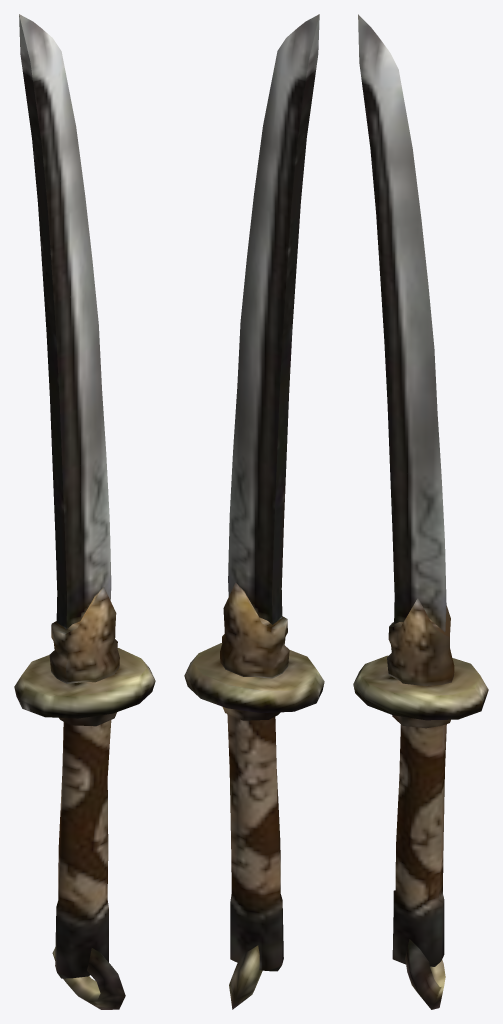
The model's file is weapon-coiled-dawn.glb.
3 views of the same model, side by side, from view 1: azimuth 30°, elevation 25°; view 2: azimuth 150°, elevation 25°; view 3: azimuth 330°, elevation 25° (orthographic). The views are drawn at different scales.
Parts seen in each view (by area): view 1: katanaH_MDL_q; view 2: katanaH_MDL_q; view 3: katanaH_MDL_q.
Part boxes in pixels (x1,y1,x2,y2): katanaH_MDL_q: [14, 14, 155, 1009]; katanaH_MDL_q: [184, 14, 324, 1009]; katanaH_MDL_q: [353, 14, 488, 1009].
Size of the model in its own units: 0.1818 by 1.36 by 0.1418.
Materials: 1 (1 with a texture image).
